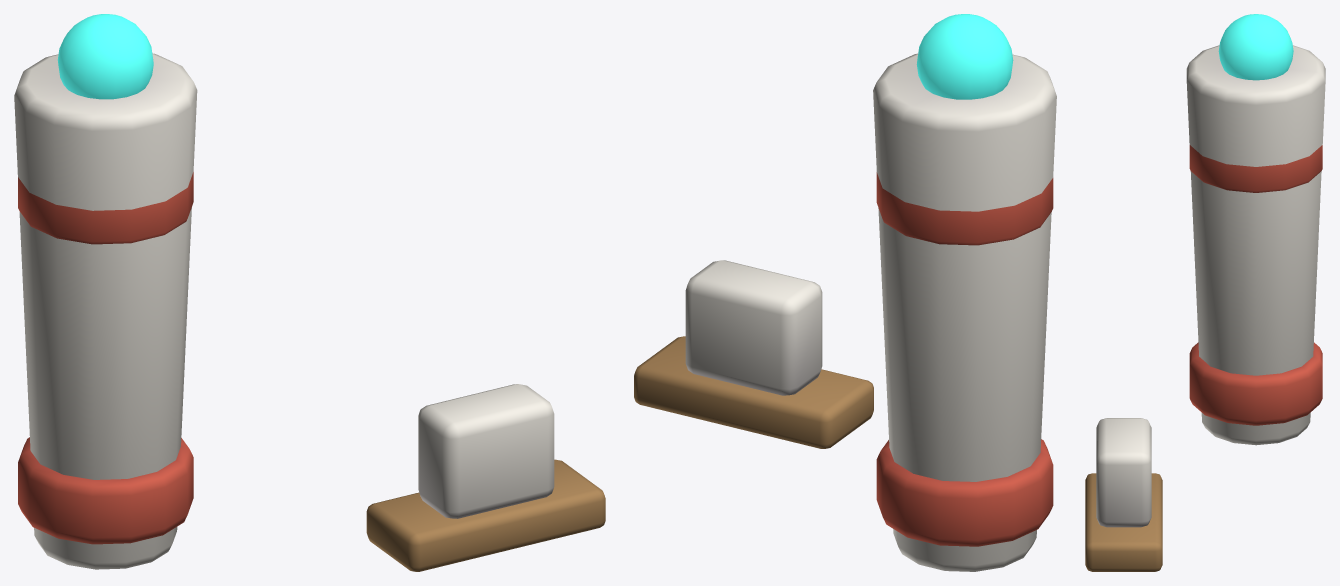
3 renders of one model, left to right at view 1: azimuth 30°, elevation 25°; view 2: azimuth 150°, elevation 25°; view 3: azimuth 270°, elevation 25°, orthographic. The views are drawn at different scales.
Parts seen in each view (by area): view 1: landmark_3cc9b745; view 2: landmark_3cc9b745; view 3: landmark_3cc9b745.
Part boxes in pixels (x1,y1,x2,y2): landmark_3cc9b745: (14,14,605,571); landmark_3cc9b745: (634,14,1056,571); landmark_3cc9b745: (1085,14,1325,571).
Size of the model in its own units: 3.85 by 4.09 by 2.18.
